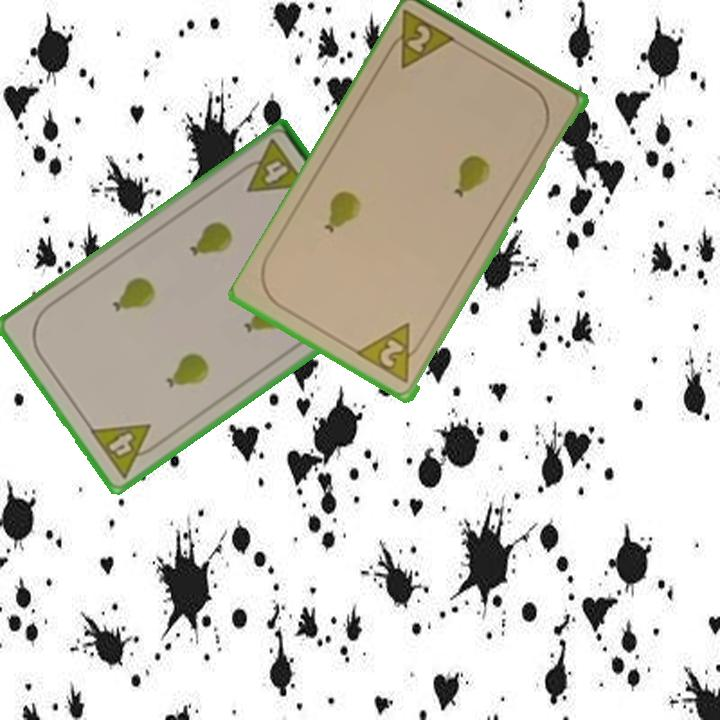2p: (381, 7, 461, 73), (355, 319, 428, 387)
4p: (86, 420, 165, 482), (233, 136, 310, 196)
